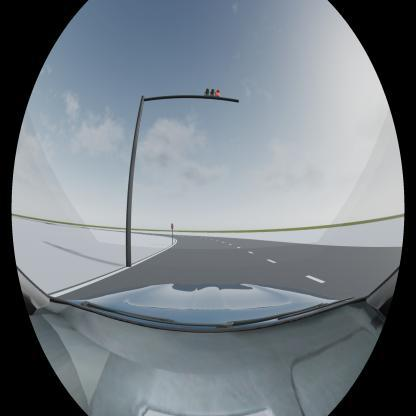Red Light: (204, 88, 221, 99)
